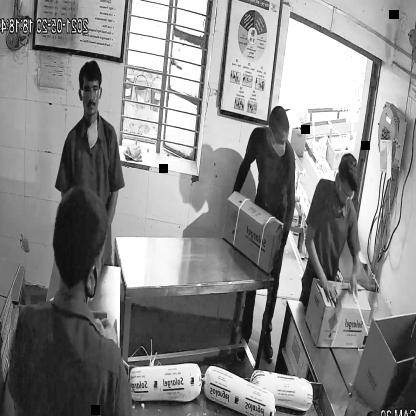goggles: (78, 82, 104, 100)
